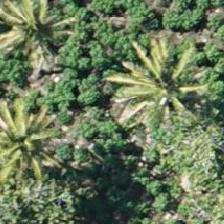coconut_tree: (117, 35, 207, 125), (0, 105, 67, 195), (0, 0, 80, 68)
